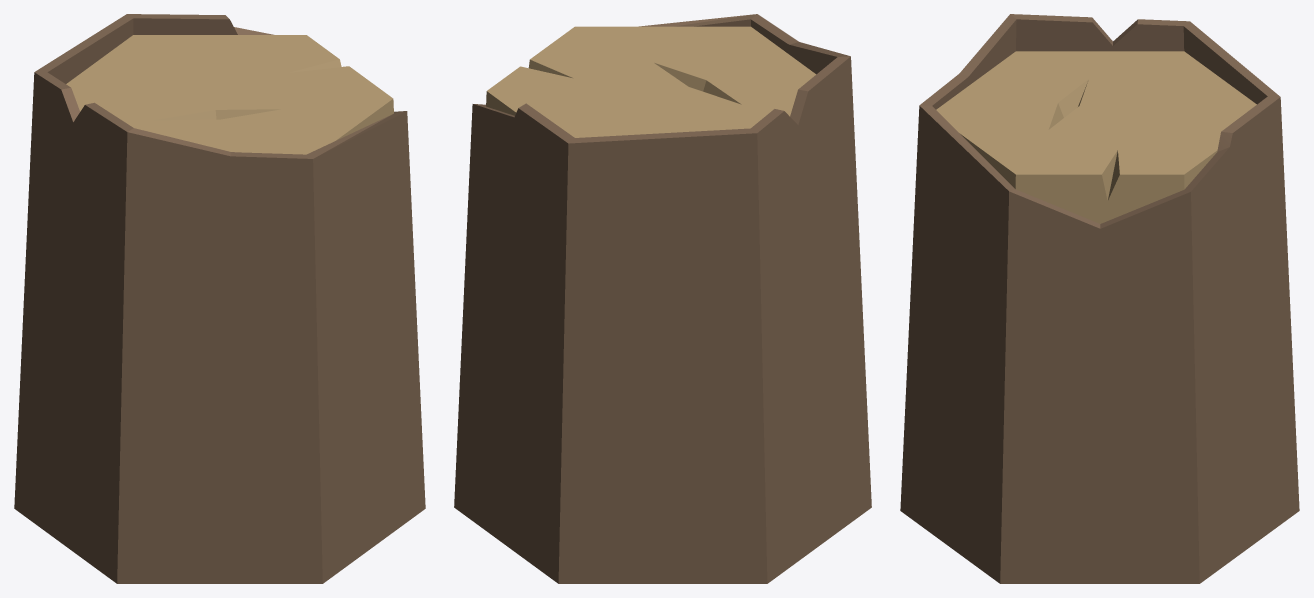
Rendered from Hilly_Prop_Stump.obj.
3 renders of one model, left to right at view 1: azimuth 30°, elevation 25°; view 2: azimuth 150°, elevation 25°; view 3: azimuth 270°, elevation 25°, orthographic. The views are drawn at different scales.
Visible parts, largest first — view 1: object1; view 2: object1; view 3: object1.
Boxes of the visible parts, left/top/right/bottom form: object1: left=14, top=14, right=425, bottom=583; object1: left=454, top=14, right=871, bottom=583; object1: left=900, top=14, right=1299, bottom=583.
Bounding box in the file's own units: 0.433 × 0.5959 × 0.5.
